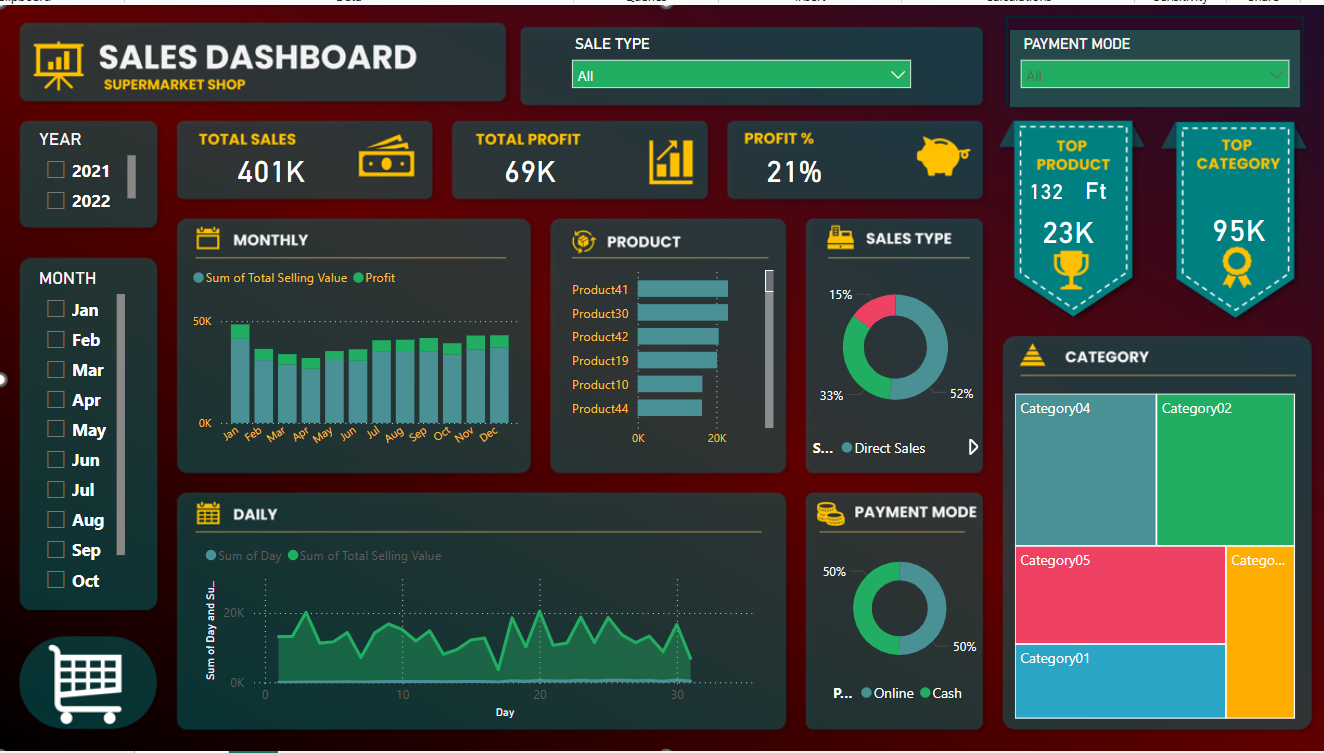

What the dashboard file says about the page in this screenshot:
{"tool":"powerbi","page":{"name":"Page 1","canvas":[1280,720],"ordinal":0},"visuals":[{"type":"slicer","title":"MONTH","fields":{"Values":["InputData.Month Name"]},"box":[32.6,253.4,92.9,326.9],"z":0},{"type":"slicer","fields":{"Values":["InputData.PAYMENT MODE"]},"box":[974.8,24.1,279.9,74.8],"z":1000},{"type":"slicer","title":"YEAR","fields":{"Values":["InputData.Year"]},"box":[32.6,119.4,103.8,84.5],"z":2000},{"type":"slicer","fields":{"Values":["InputData.SALE TYPE"]},"box":[541.7,24.1,347.5,74.8],"z":3000},{"type":"card","fields":{"Values":["Sum(InputData.Total Selling Value)"]},"box":[193,139.9,137.5,37.4],"z":4000},{"type":"card","fields":{"Values":["InputData.Profit %"]},"box":[723.9,139.9,85.7,37.4],"z":5000},{"type":"card","fields":{"Values":["Sum(InputData.Total Selling Value)"]},"box":[1150.9,196.6,89.3,38.6],"z":6000},{"type":"card","fields":{"Values":["Sum(InputData.QUANTITY)"]},"box":[974.8,161.7,70,36.2],"z":7000},{"type":"card","fields":{"Values":["Sum(InputData.Total Selling Value)"]},"box":[986.9,191.8,88.1,51.9],"z":8000},{"type":"card","fields":{"Values":["Min(InputData.MasterData.UOM)"]},"box":[1019.4,161.7,77.2,35],"z":9000},{"type":"card","fields":{"Values":["InputData.Profit"]},"box":[450,139.9,123.1,38.6],"z":10000},{"type":"columnChart","fields":{"Category":["InputData.Month Name"],"Y":["Sum(InputData.Total Selling Value)","InputData.Profit"]},"box":[181,243.7,324.5,191.8],"z":11000},{"type":"clusteredBarChart","fields":{"Category":["InputData.MasterData.PRODUCT"],"Y":["Sum(InputData.Total Selling Value)"]},"box":[541.7,243.7,209.9,191.8],"z":12000},{"type":"areaChart","fields":{"Y":["Sum(InputData.Day)","Sum(InputData.Total Selling Value)"],"Category":["InputData.Day"]},"box":[193,511.5,541.7,182.2],"z":13000},{"type":"donutChart","fields":{"Y":["Sum(InputData.Total Selling Value)"],"Category":["InputData.SALE TYPE"]},"box":[779.4,243.7,170.1,202.7],"z":14000},{"type":"donutChart","fields":{"Y":["Sum(InputData.Total Selling Value)"],"Category":["InputData.PAYMENT MODE"]},"box":[787.8,511.5,161.7,171.3],"z":15000},{"type":"treemap","fields":{"Group":["InputData.MasterData.CATEGORY"],"Values":["Sum(InputData.Total Selling Value)"]},"box":[974.8,370.4,279.9,323.3],"z":16000}]}

Visuals, with their boxes on the page's 1280x720 design canvas (x1, y1, x2, y2). These are canvas units, not pixel positions in the 1324x753 screenshot, which may show the page scaled, cropped or inside an application window:
"MONTH" slicer: bbox(33, 253, 126, 580)
slicer - InputData.PAYMENT MODE: bbox(975, 24, 1255, 99)
"YEAR" slicer: bbox(33, 119, 136, 204)
slicer - InputData.SALE TYPE: bbox(542, 24, 889, 99)
card - Sum(InputData.Total Selling Value): bbox(193, 140, 330, 177)
card - InputData.Profit %: bbox(724, 140, 810, 177)
card - Sum(InputData.Total Selling Value): bbox(1151, 197, 1240, 235)
card - Sum(InputData.QUANTITY): bbox(975, 162, 1045, 198)
card - Sum(InputData.Total Selling Value): bbox(987, 192, 1075, 244)
card - Min(InputData.MasterData.UOM): bbox(1019, 162, 1097, 197)
card - InputData.Profit: bbox(450, 140, 573, 178)
columnChart - InputData.Month Name x Sum(InputData.Total Selling Value): bbox(181, 244, 506, 436)
clusteredBarChart - InputData.MasterData.PRODUCT x Sum(InputData.Total Selling Value): bbox(542, 244, 752, 436)
areaChart - Sum(InputData.Day) x Sum(InputData.Total Selling Value): bbox(193, 512, 735, 694)
donutChart - Sum(InputData.Total Selling Value) x InputData.SALE TYPE: bbox(779, 244, 950, 446)
donutChart - Sum(InputData.Total Selling Value) x InputData.PAYMENT MODE: bbox(788, 512, 950, 683)
treemap - InputData.MasterData.CATEGORY x Sum(InputData.Total Selling Value): bbox(975, 370, 1255, 694)
